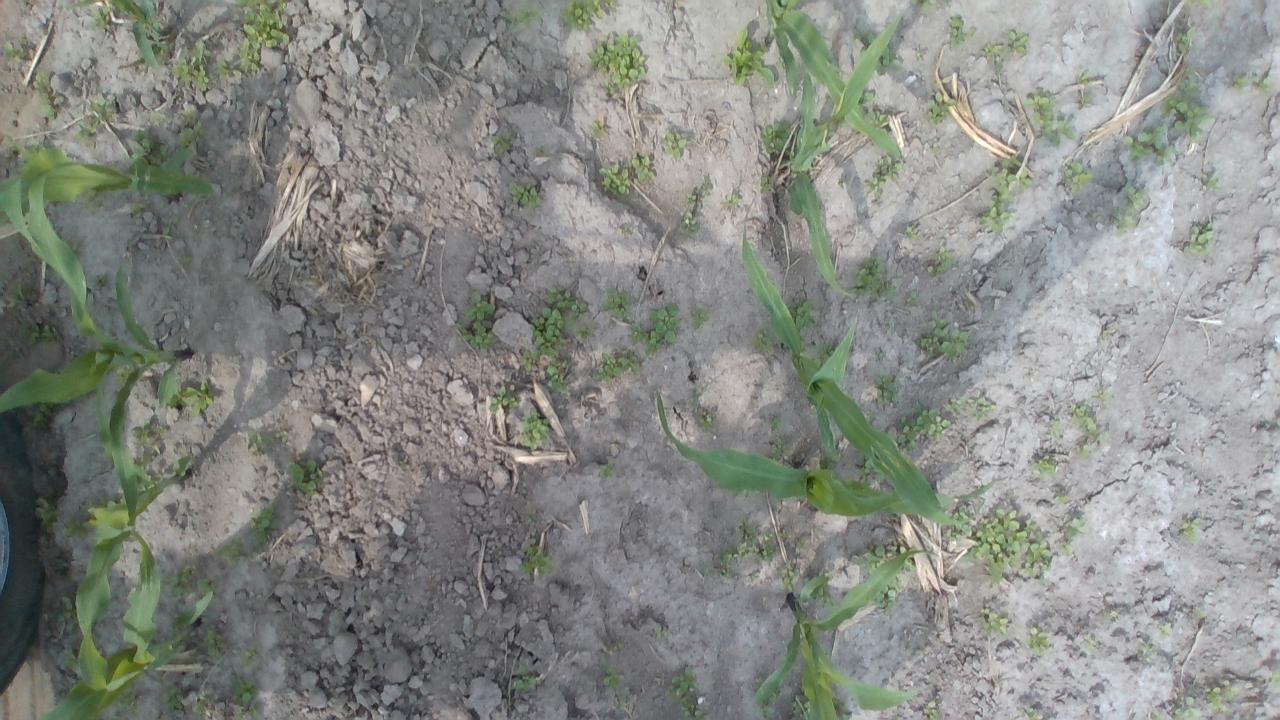Maize: (740, 202, 969, 535), (0, 268, 192, 528), (653, 390, 988, 520), (0, 136, 216, 318), (778, 0, 906, 298), (31, 527, 212, 720), (66, 440, 190, 698), (751, 548, 936, 720), (759, 0, 906, 165), (108, 0, 168, 74)
Weeds: (960, 508, 1052, 584), (588, 35, 651, 96), (1157, 70, 1210, 142), (722, 25, 777, 88), (892, 400, 952, 452), (1025, 89, 1077, 145), (630, 300, 680, 357), (231, 0, 289, 48), (911, 315, 970, 360), (1120, 125, 1175, 169), (171, 38, 212, 92), (848, 256, 898, 298), (989, 158, 1034, 202), (542, 285, 588, 327), (530, 308, 565, 360), (558, 0, 618, 30), (1112, 186, 1148, 234), (130, 129, 174, 167), (862, 153, 899, 198), (516, 407, 554, 450), (734, 521, 774, 560), (284, 458, 322, 499), (228, 672, 260, 720), (246, 502, 282, 544), (597, 349, 640, 384), (178, 378, 216, 417), (975, 198, 1013, 235), (521, 542, 560, 578), (924, 245, 963, 281), (32, 71, 59, 121), (758, 120, 794, 157), (13, 319, 62, 346), (853, 542, 897, 572), (876, 572, 906, 616), (782, 296, 818, 332), (1204, 678, 1238, 716), (455, 322, 498, 352), (597, 160, 630, 198), (179, 108, 211, 147), (598, 287, 632, 321), (924, 92, 958, 126), (540, 360, 572, 396), (1180, 222, 1216, 254), (947, 505, 979, 540), (944, 15, 976, 49), (1063, 160, 1095, 194), (462, 290, 495, 322), (808, 572, 836, 609), (852, 458, 884, 490), (157, 680, 186, 714), (488, 384, 519, 415), (164, 566, 194, 598), (872, 44, 902, 76), (1024, 626, 1052, 660), (509, 181, 542, 209), (34, 496, 60, 531), (247, 430, 290, 451), (979, 605, 1008, 636), (1070, 403, 1098, 435), (236, 38, 260, 74), (61, 511, 90, 540), (670, 668, 700, 696), (684, 178, 712, 208), (1171, 693, 1200, 720), (3, 39, 30, 68), (164, 607, 194, 633), (662, 130, 688, 160), (630, 154, 656, 184), (506, 6, 537, 30), (749, 326, 775, 354), (758, 687, 780, 720), (874, 373, 896, 406), (218, 537, 244, 563), (129, 417, 154, 444), (82, 186, 106, 214), (1030, 456, 1058, 480), (510, 666, 538, 690), (694, 408, 718, 436), (810, 341, 833, 370), (88, 4, 113, 30), (59, 596, 80, 626), (864, 106, 890, 130), (75, 117, 97, 145), (204, 629, 224, 659), (788, 695, 812, 720), (1178, 29, 1202, 54), (1004, 30, 1028, 55), (487, 132, 514, 154), (115, 691, 139, 715), (852, 30, 876, 54), (93, 96, 115, 122), (61, 646, 80, 674), (601, 665, 624, 688), (970, 397, 993, 420), (213, 56, 235, 80), (113, 363, 134, 388), (32, 400, 53, 425), (680, 702, 709, 720), (770, 438, 790, 464), (21, 138, 49, 156), (1180, 520, 1204, 541), (780, 567, 798, 594), (899, 544, 916, 572), (1228, 72, 1250, 93), (1064, 516, 1085, 536), (922, 699, 942, 720), (678, 212, 698, 232), (240, 646, 258, 668), (196, 576, 214, 596), (690, 309, 706, 330), (718, 548, 739, 564), (944, 396, 961, 415), (903, 226, 922, 243), (980, 42, 1003, 56), (1136, 642, 1156, 658), (908, 0, 936, 11), (519, 350, 535, 369), (1204, 172, 1220, 191), (704, 566, 729, 578), (856, 89, 876, 104), (574, 326, 595, 340), (1060, 544, 1078, 560), (1256, 74, 1272, 92), (687, 384, 700, 406), (590, 120, 606, 137), (1185, 0, 1214, 9), (1046, 420, 1061, 437), (130, 202, 148, 216), (760, 174, 774, 192), (191, 700, 206, 715), (1023, 707, 1040, 720), (769, 415, 782, 432), (1078, 94, 1092, 109), (164, 218, 177, 234), (1268, 672, 1280, 689), (1094, 391, 1112, 402), (1159, 624, 1173, 638), (150, 110, 164, 124), (1077, 446, 1090, 460), (724, 195, 739, 207), (907, 295, 922, 307), (1192, 607, 1208, 618), (600, 464, 612, 478), (1076, 72, 1088, 86), (1054, 495, 1070, 504), (526, 512, 538, 524), (654, 626, 664, 640), (154, 669, 162, 686), (1086, 639, 1096, 652), (72, 0, 90, 7), (536, 142, 546, 154), (914, 50, 924, 62), (623, 223, 632, 235), (750, 574, 761, 583), (1150, 712, 1162, 720), (616, 703, 626, 710), (879, 352, 886, 358)
